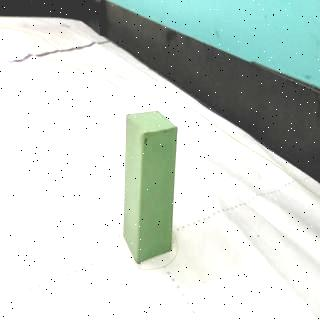greenbox: (122, 109, 180, 268)
